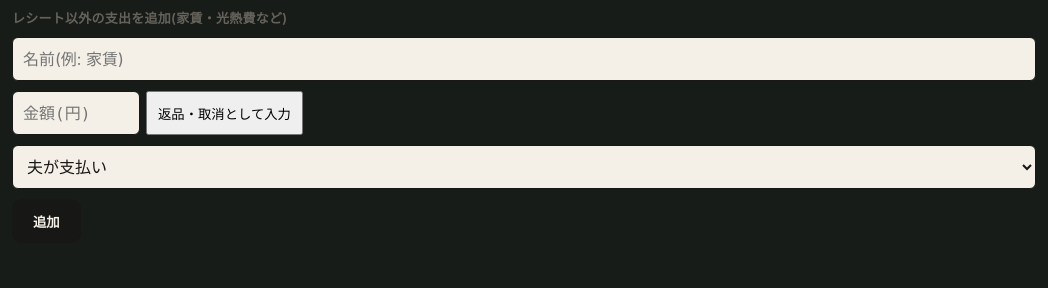
ManualEntryForm › 金額欄は空欄もエラー扱いになる(手動追加はレシートのように空欄→failedへ倒れる仕組みがないため)
The width and height of the screenshot is (1048, 288).
Type "電気代" into the field named "支出の名前".
click(524, 59); type("電気代")  # box [12, 37, 1036, 81]
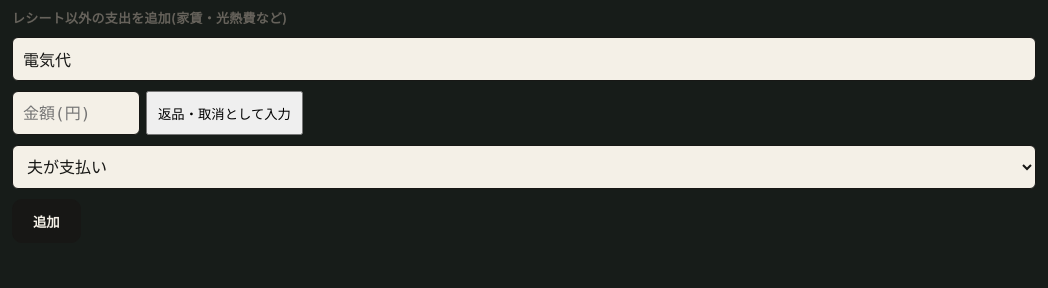
Click the button "追加".
click(46, 221)  # box [12, 199, 81, 243]
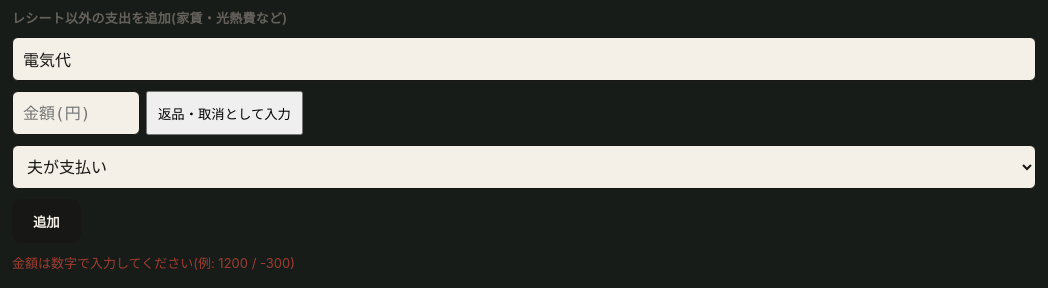
Expected: the message shows "金額は数字で入力してください", [12, 255, 295, 271]
